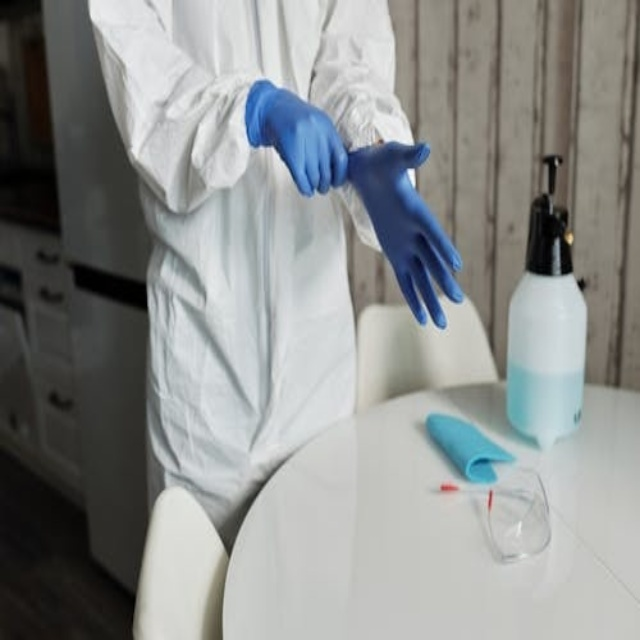Guantes: (349, 109, 474, 337), (242, 67, 348, 194)
